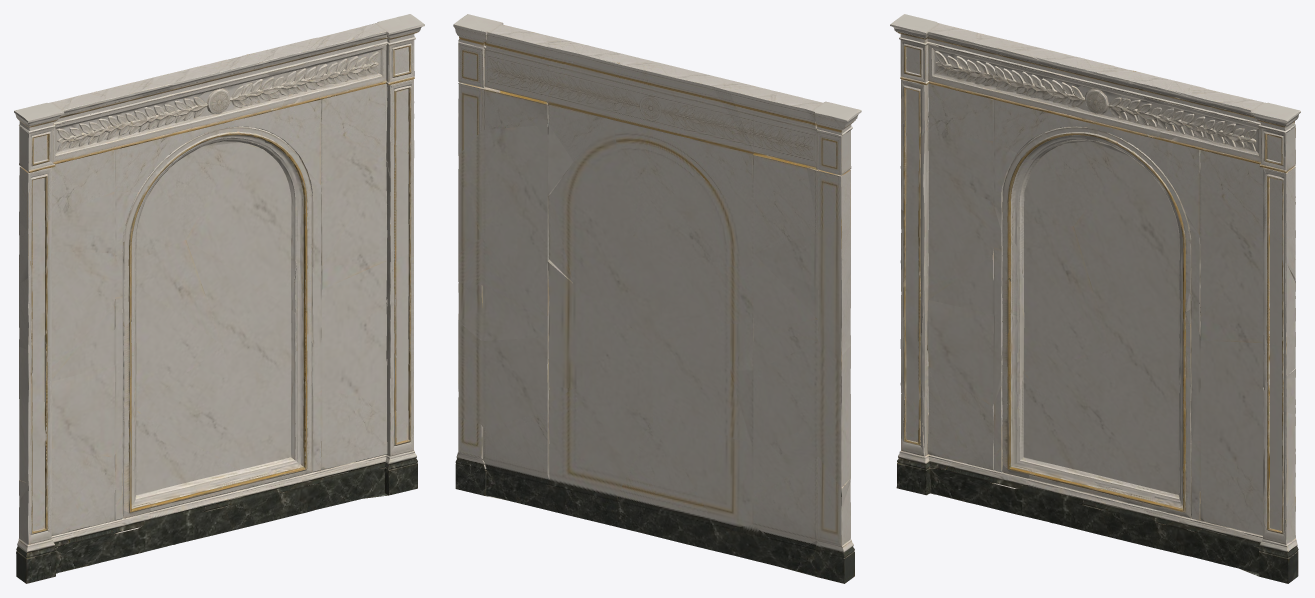
Rendered from museum-screen-bay.glb.
The picture shows the model from 3 angles, left to right: view 1: azimuth 30°, elevation 25°; view 2: azimuth 150°, elevation 25°; view 3: azimuth 330°, elevation 25°; orthographic projection.
Parts seen in each view (by area): view 1: museum_screen_bay_mesh; view 2: museum_screen_bay_mesh; view 3: museum_screen_bay_mesh.
Part boxes in pixels (box(x1,y1,x2,y2)): museum_screen_bay_mesh: box(14, 14, 424, 583); museum_screen_bay_mesh: box(453, 14, 861, 583); museum_screen_bay_mesh: box(890, 14, 1300, 583).
Bounding box in the file's own units: 3.2 × 3.6 × 0.2067.
1 material, 1 textured.
